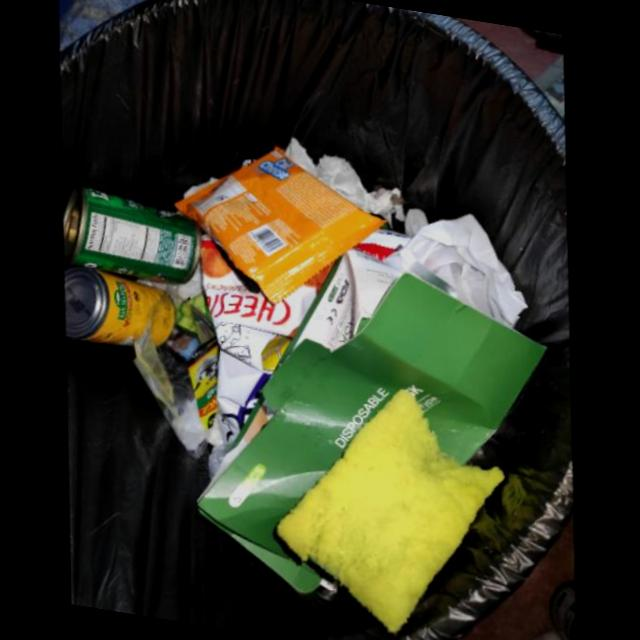bao_bi_thuc_pham: (172, 146, 385, 304), (200, 238, 340, 441), (352, 228, 409, 260)
carton: (194, 246, 546, 595)
giay: (397, 214, 527, 328)
nhom: (61, 185, 200, 285), (62, 265, 173, 346)
